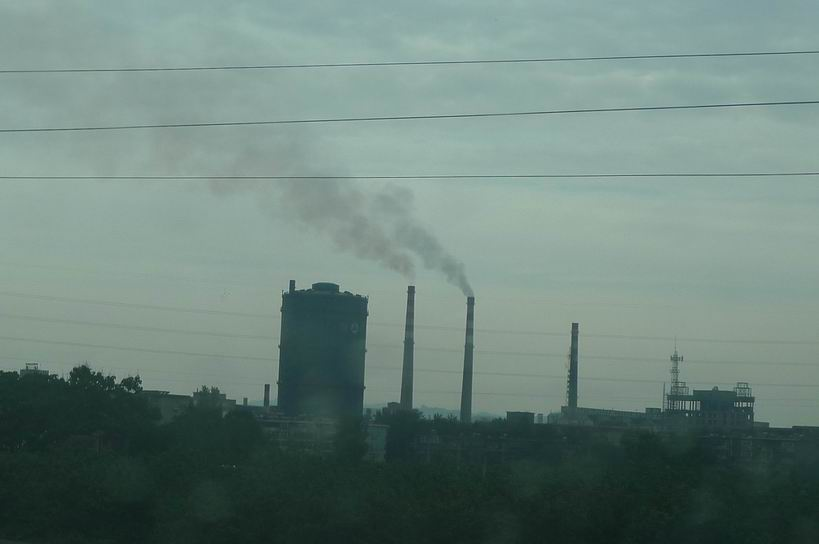dust: (401, 197, 490, 306), (326, 197, 423, 289)
